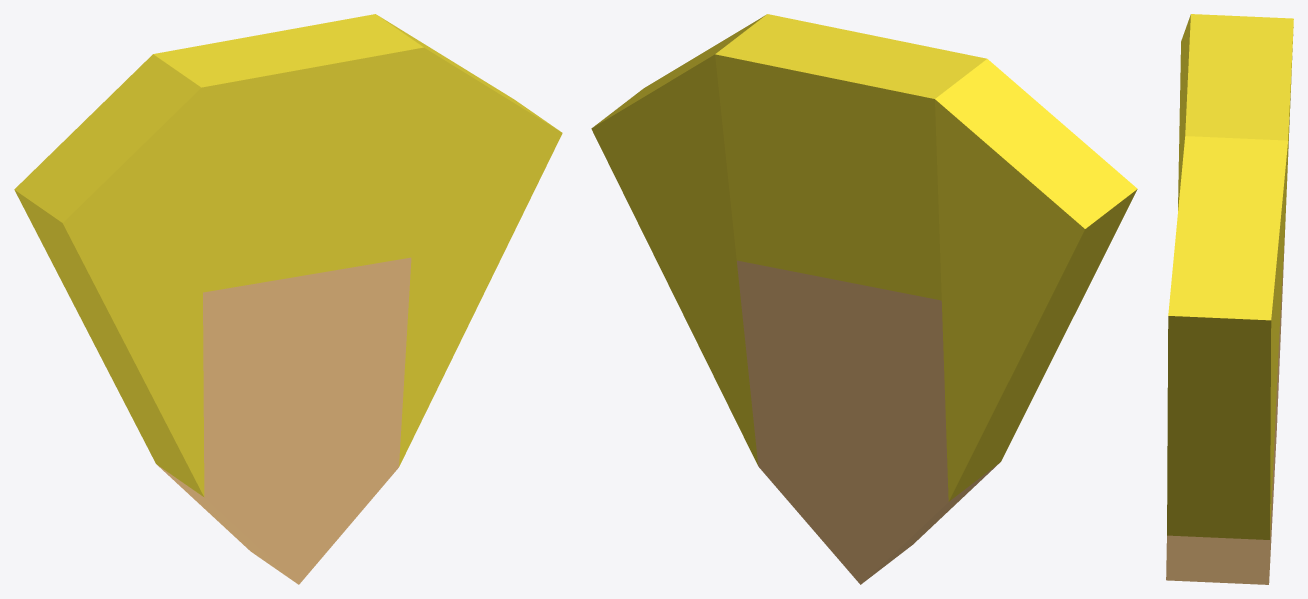
File: corn_seed_apelab_ccby.glb
The picture shows the model from 3 angles, left to right: view 1: azimuth 30°, elevation 25°; view 2: azimuth 150°, elevation 25°; view 3: azimuth 270°, elevation 25°; orthographic projection. The views are drawn at different scales.
Visible parts, largest first — view 1: group1469751056; view 2: group1469751056; view 3: group1469751056.
Boxes of the visible parts, left/top/right/bottom form: group1469751056: left=14, top=14, right=562, bottom=584; group1469751056: left=591, top=14, right=1137, bottom=584; group1469751056: left=1166, top=14, right=1293, bottom=584.
Size of the model in its own units: 0.0684 by 0.0676 by 0.0149.
